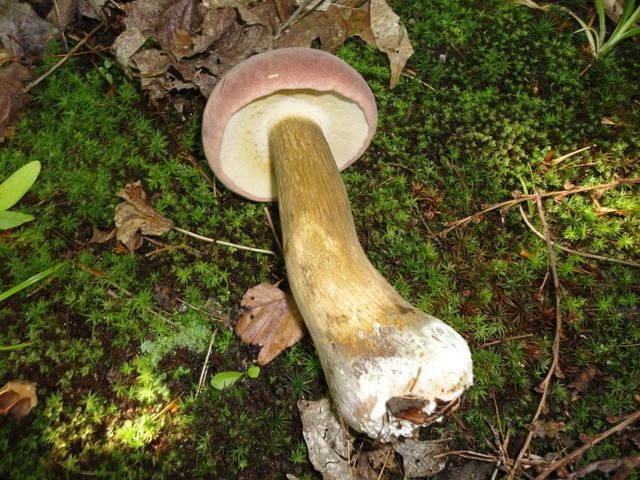Non-edible Mushroom: (200, 45, 475, 443)
